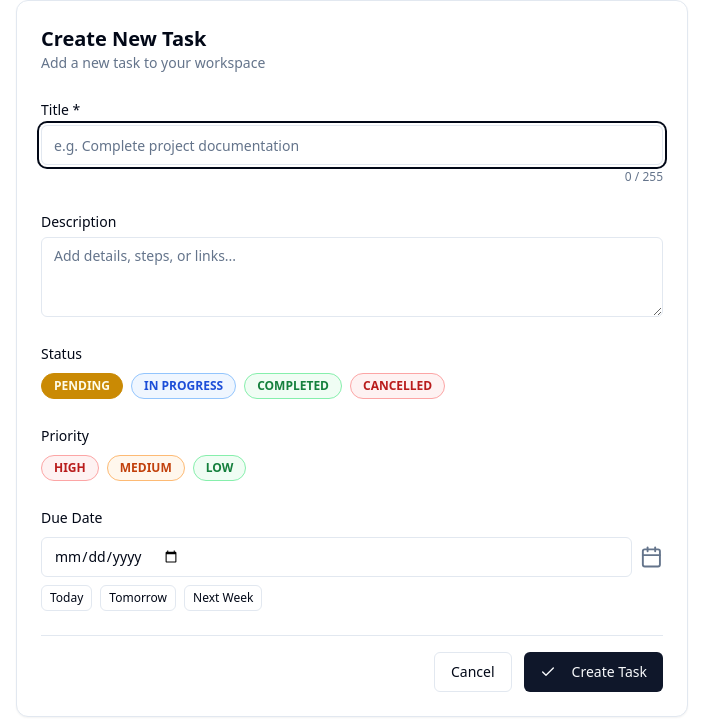
Test case: CreateTaskForm › displays validation error for empty title
This screenshot has width=705, height=720.
Click the button "Create Task" at (593, 672), box [524, 652, 663, 692]
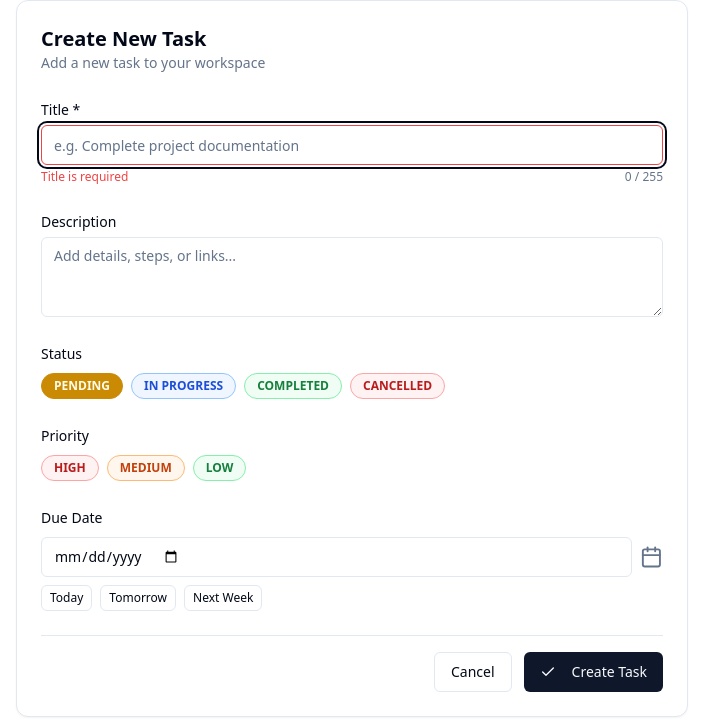
Check: the text "Title is required" is shown, box [41, 169, 128, 185]
